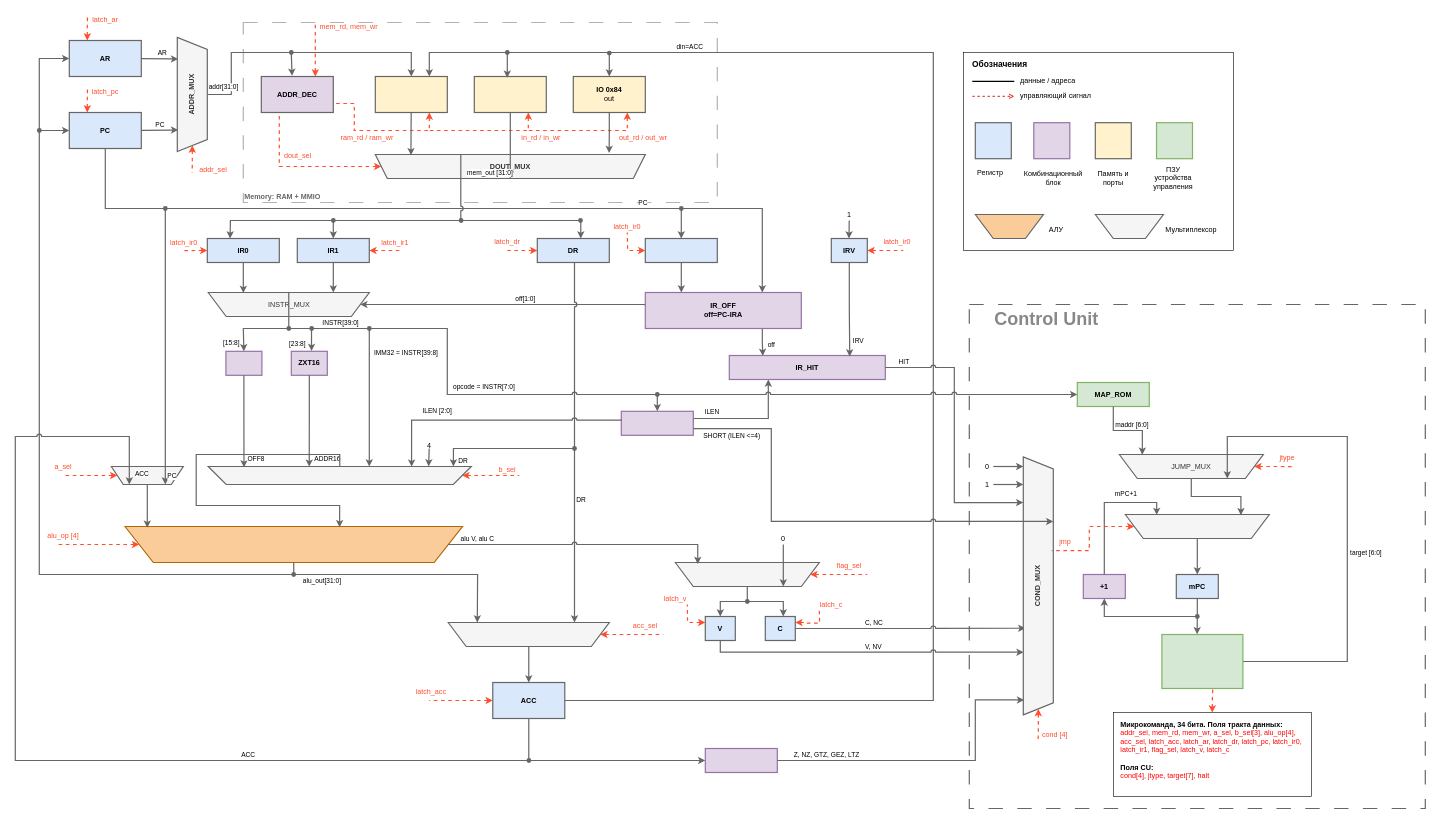
Some shapes in this 1436 by 819 pixel diagram are drawn without their labels. Each missing label, with the centre of its shape:
"A_MUX" belongs at (x=147, y=475).
"ACC_CMP" belongs at (x=741, y=760).
"ACC_MUX" belongs at (x=528, y=634).
"ALU" belongs at (x=293, y=544).
"B_MUX" belongs at (x=339, y=475).
"FLAG_MUX" belongs at (x=747, y=574).
"IO 0x80 in" belongs at (x=510, y=94).
"IRA" belongs at (x=681, y=250).
"LEN_DEC" belongs at (x=657, y=423).
"mROM 70 × 34 бит" belongs at (x=1202, y=661).
"NEXT_MUX" belongs at (x=1197, y=526).
"RAM байтовая, LE" belongs at (x=411, y=94).
"SXT8" belongs at (x=243, y=363).
